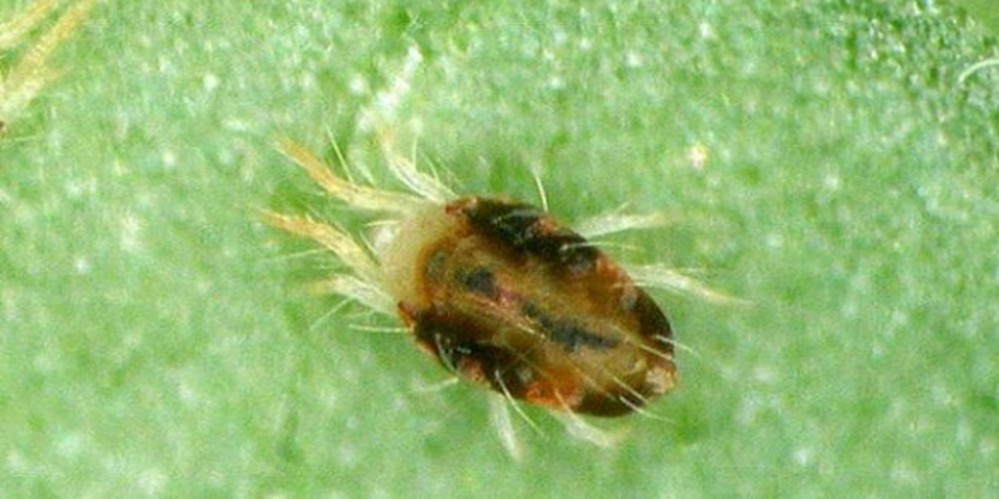Aracnido Rojo: (247, 116, 771, 473)
